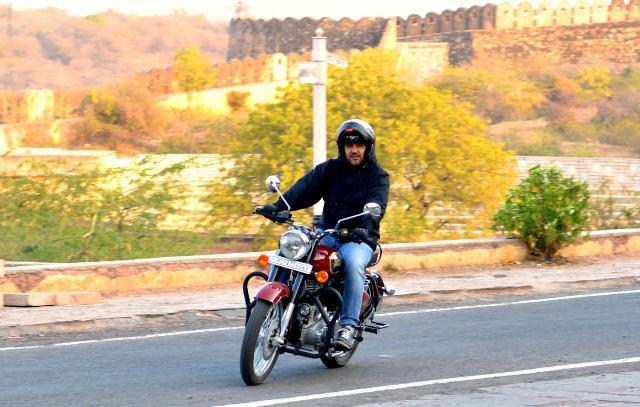licensePlate: (267, 249, 312, 277)
motorcycle: (241, 113, 397, 389)
withHelmet: (329, 118, 385, 170)
